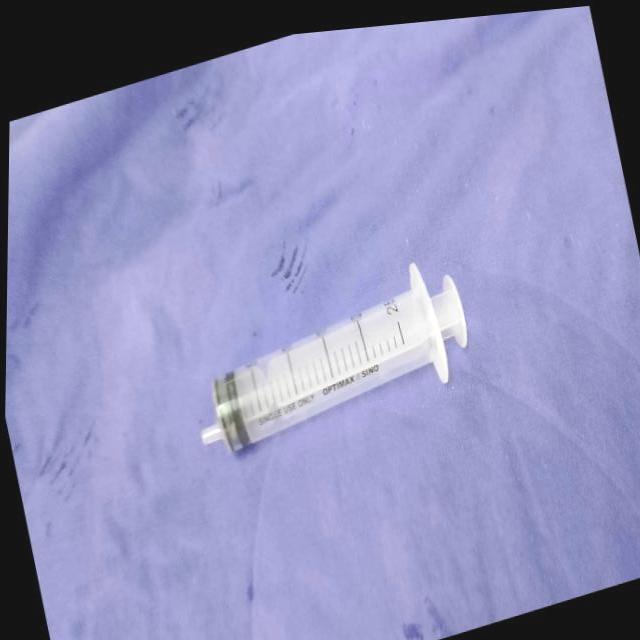Pathological: (4, 7, 639, 639)
Sharps: (199, 262, 470, 455)
